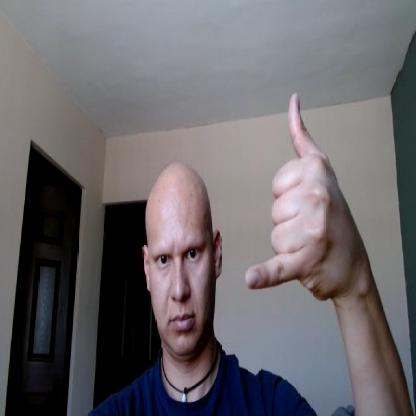Y: (243, 90, 346, 303)
